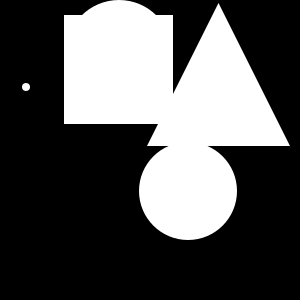circle: (64, 15, 173, 124)
rectangle: (66, 0, 172, 106), (139, 142, 237, 240), (22, 83, 30, 91)
triangle: (147, 3, 290, 146)
